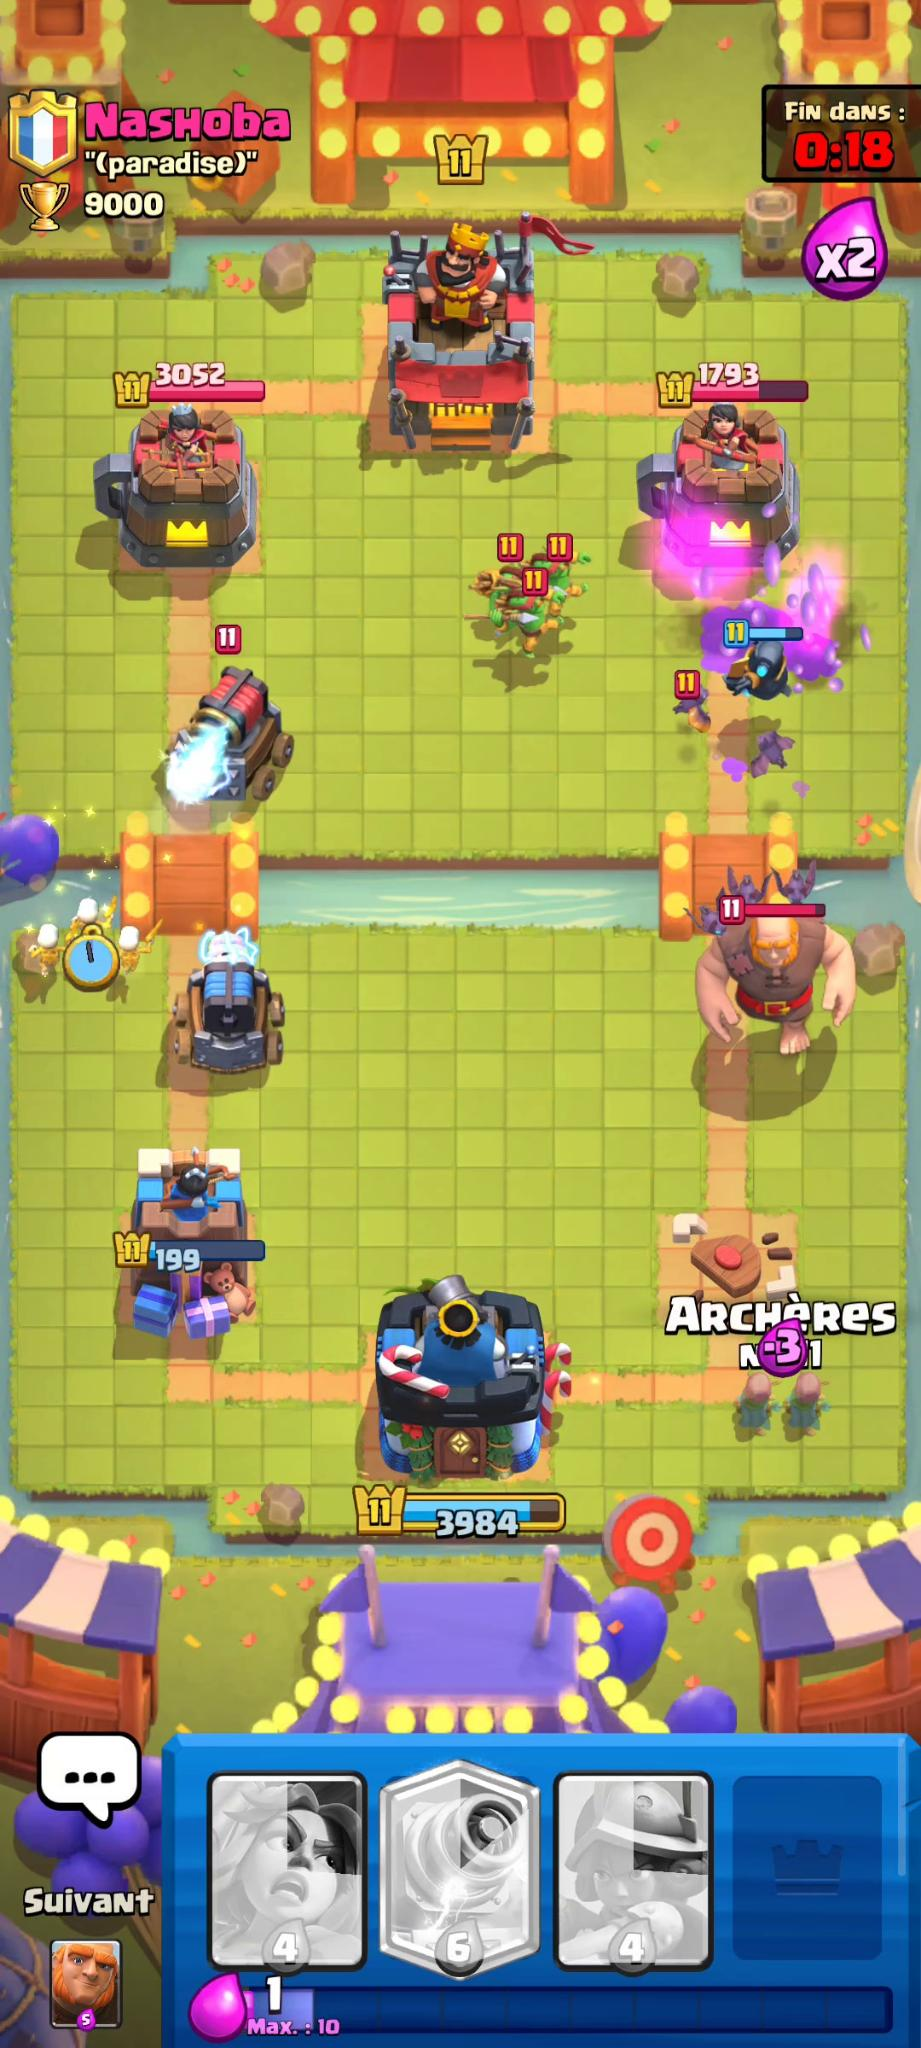archere: (737, 1365, 781, 1435), (790, 1366, 824, 1439)
bat: (739, 726, 806, 789), (673, 677, 716, 735), (776, 865, 816, 913), (700, 900, 733, 950), (732, 872, 764, 921)
geant: (711, 900, 841, 1031)
gobelin_lances: (479, 550, 528, 630), (511, 580, 559, 648), (533, 546, 574, 614)
mini_PEKKA: (726, 616, 802, 718)
squelette: (26, 926, 78, 987), (108, 926, 153, 969), (77, 895, 106, 951)
zappy: (170, 930, 273, 1074), (192, 679, 280, 801)
